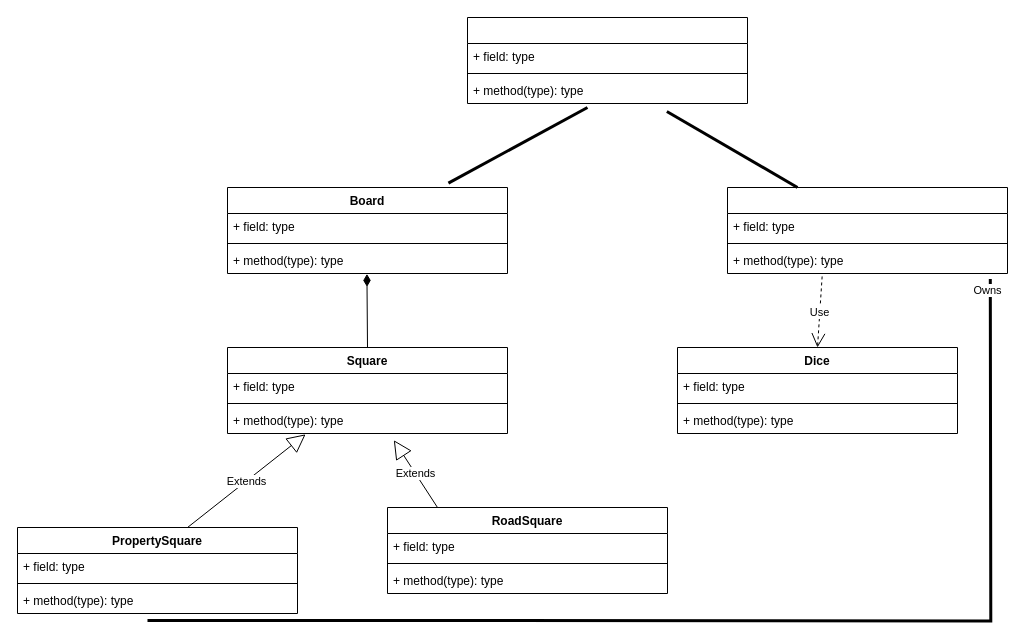
This 1025x641 diagram has some shape labels left out. The box of each missing label's shape, as (x1, y1, x2, y2) in pixels:
Game: (466, 16, 748, 104)
Player: (726, 186, 1008, 274)
